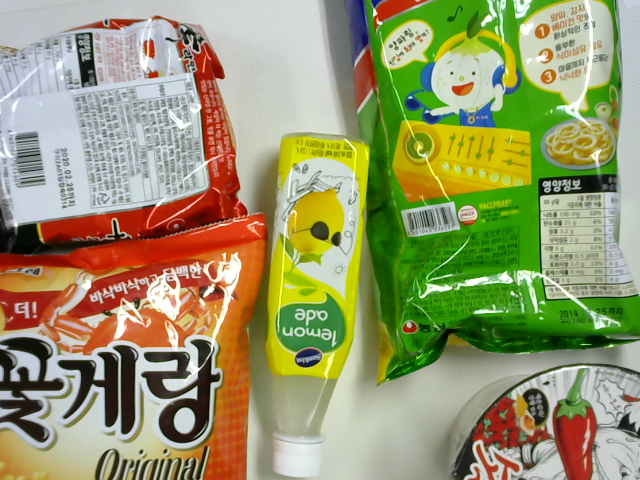Crabrang: (1, 219, 283, 478)
HeJangsock: (440, 360, 640, 479)
Oninon_Ring: (335, 1, 616, 357)
Sinramen: (1, 20, 239, 268)
Sunkist_Lemonaid_Pet: (251, 129, 377, 480)
